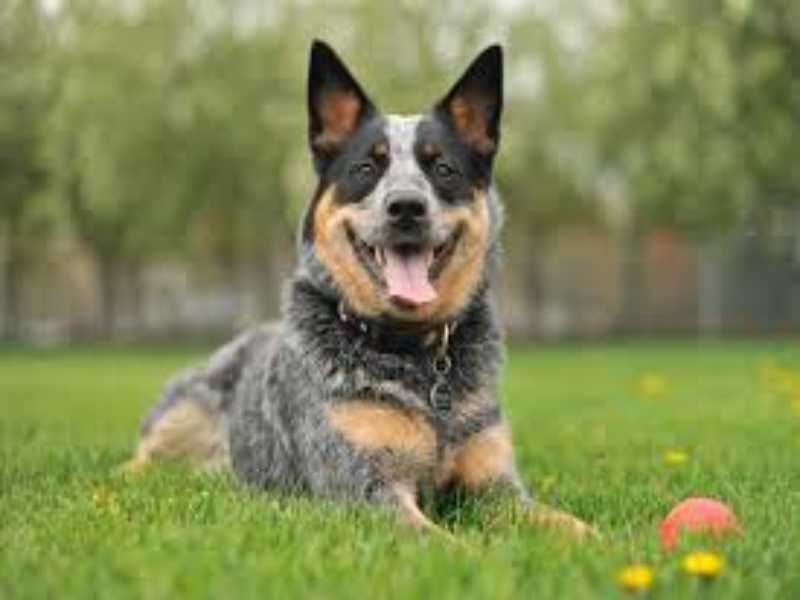dog: (105, 35, 651, 544)
